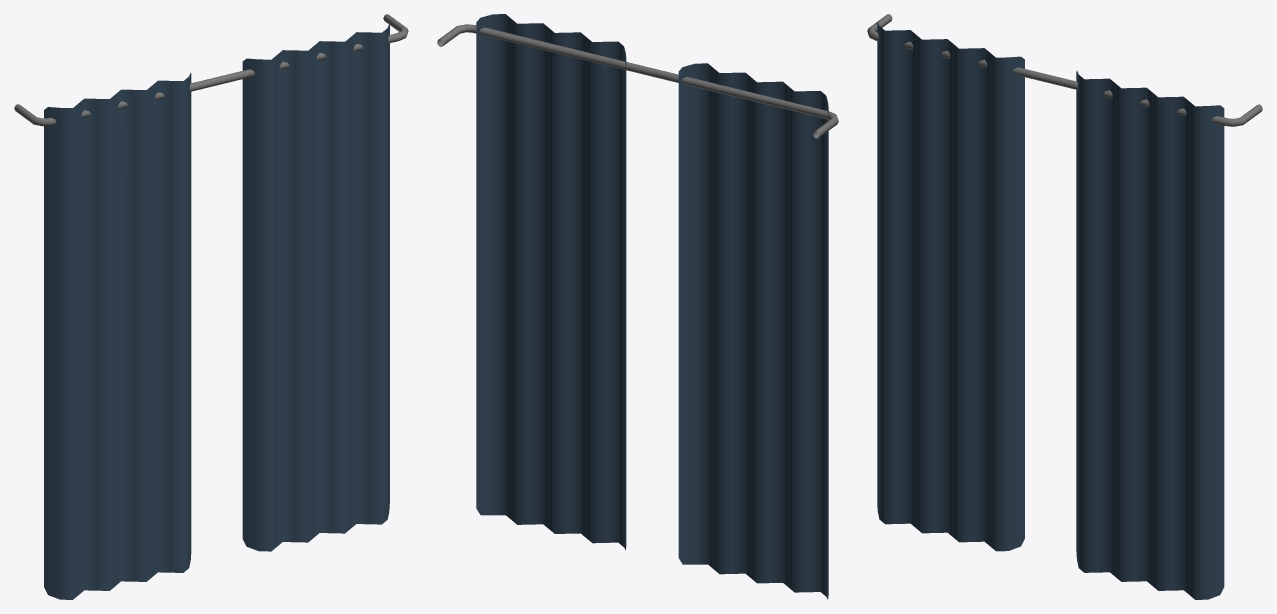
Rendered from Curtains_Double.glb.
3 views of the same model, side by side, from view 1: azimuth 30°, elevation 25°; view 2: azimuth 150°, elevation 25°; view 3: azimuth 330°, elevation 25° (orthographic).
Visible parts, largest first — view 1: Curtains_Double; view 2: Curtains_Double; view 3: Curtains_Double.
Boxes of the visible parts, bbox=[...] form: Curtains_Double: bbox=[14, 14, 408, 599]; Curtains_Double: bbox=[437, 14, 838, 599]; Curtains_Double: bbox=[867, 14, 1262, 599].
Size of the model in its own units: 3.47 by 4.34 by 0.4765.
